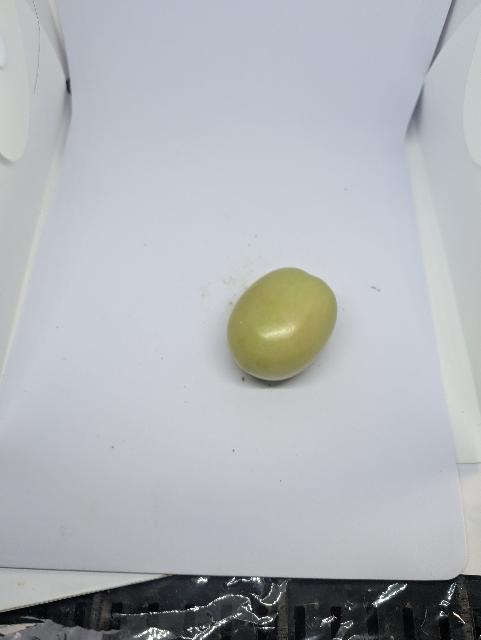green: (225, 264, 340, 385)
